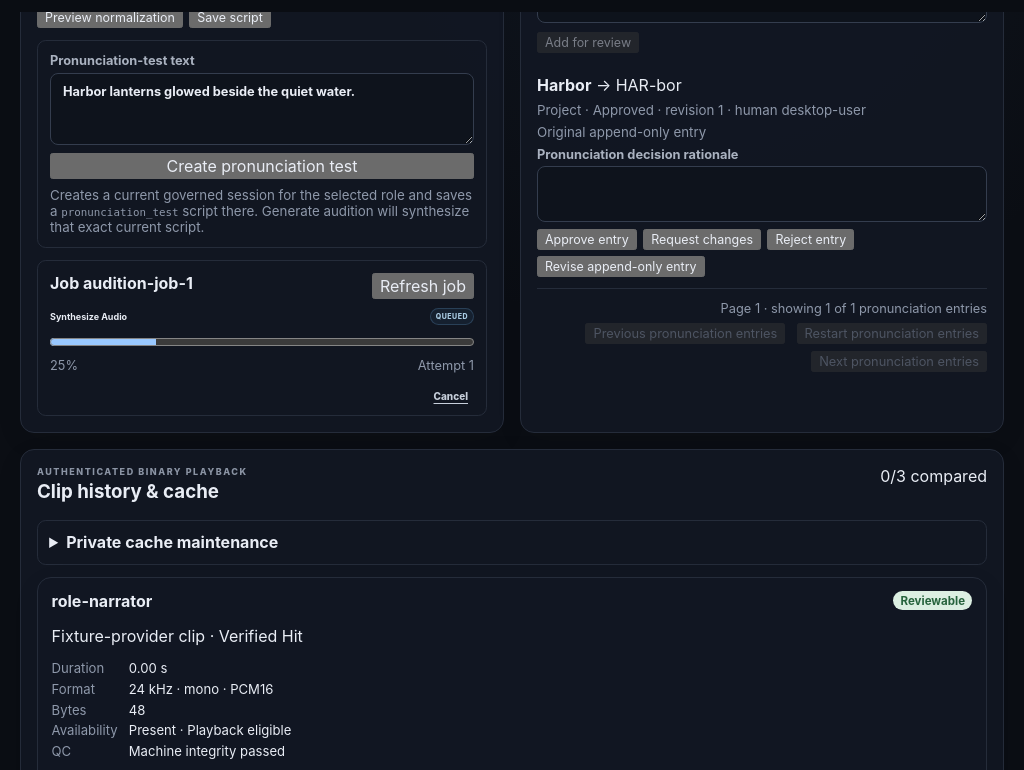
Test: AuditionsWorkspace › renders current audition job evidence and handles cancel with a bounded refresh
The width and height of the screenshot is (1024, 770).
(page scrolled)
Expected: the text "Synthesize Audio" is shown, [50,311,127,322]
Expected: the text "25%" is shown, [50,358,78,374]
Click the button "Cancel" at (451, 396), box [428,389,474,403]
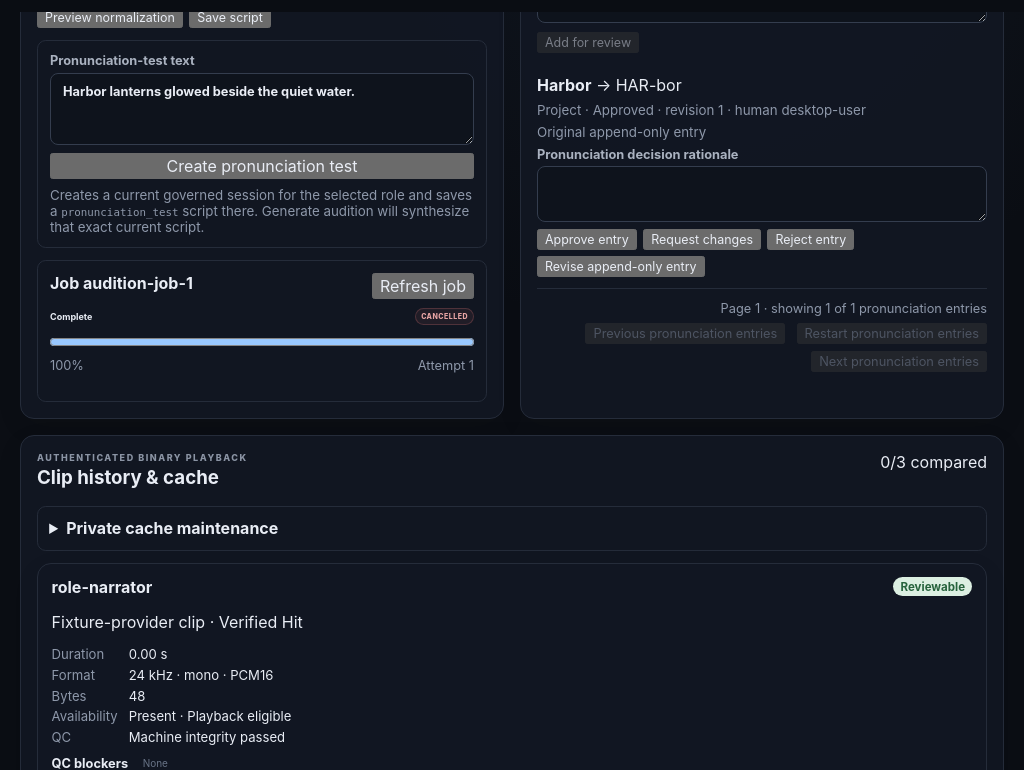
Expected: the text "Cancelled" is shown, [415,308,474,325]
